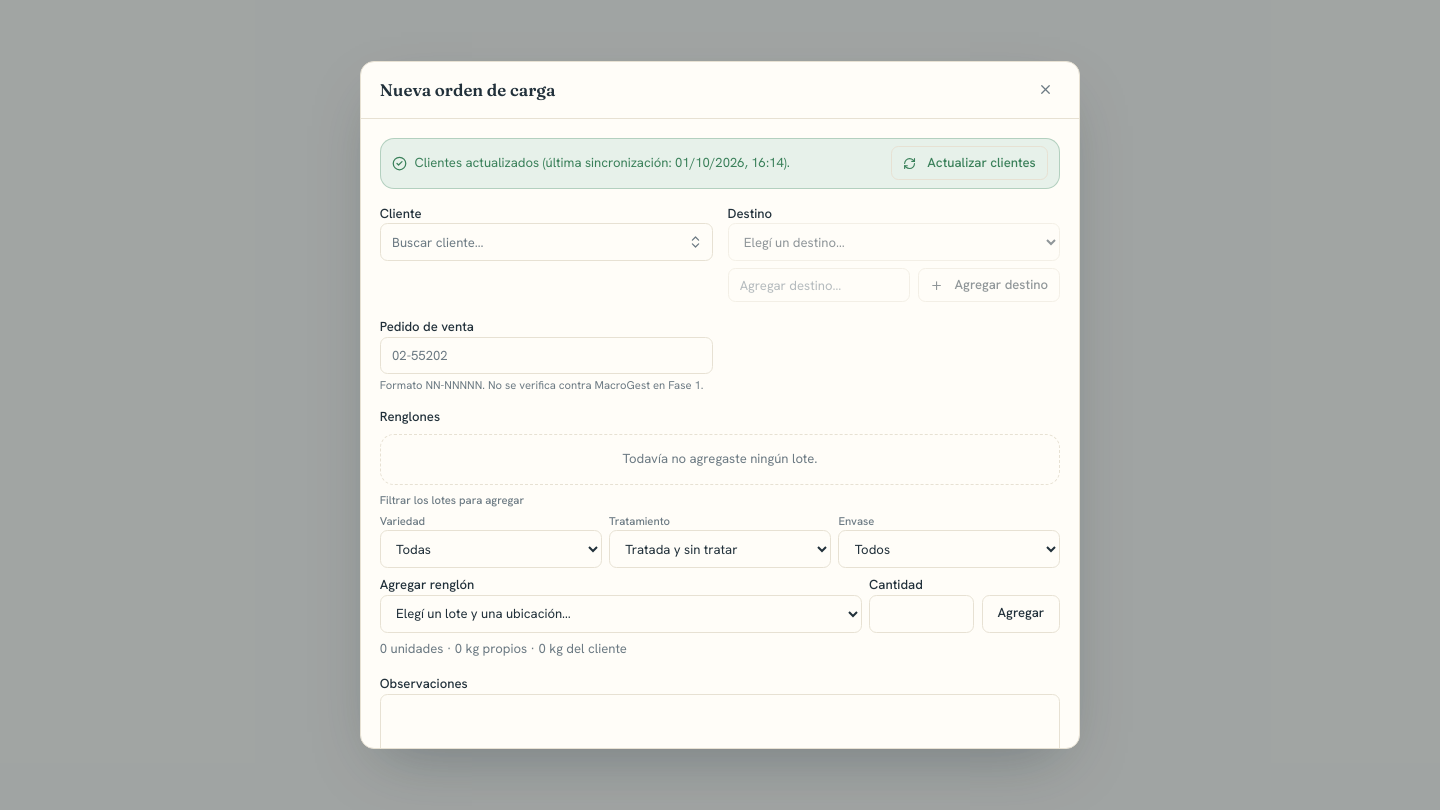
Test: OrdenDialog › no deja guardar sin al menos un renglón
Type "Uno" into the dropdown labelled "Cliente" at (546, 242), box [380,223,713,261]
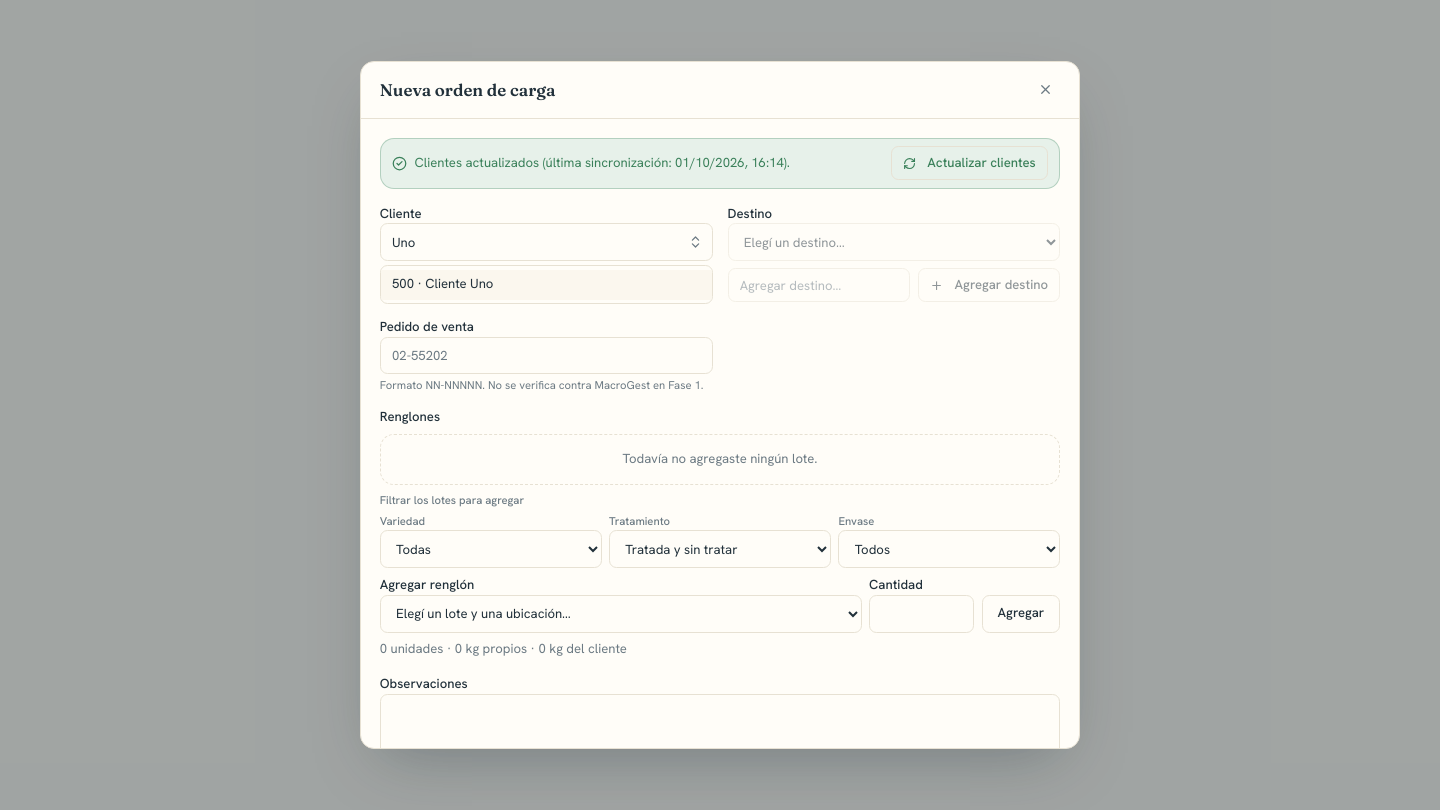
Press the mouse on the button "500 · Cliente Uno" at (443, 284), box [381,270,712,300]
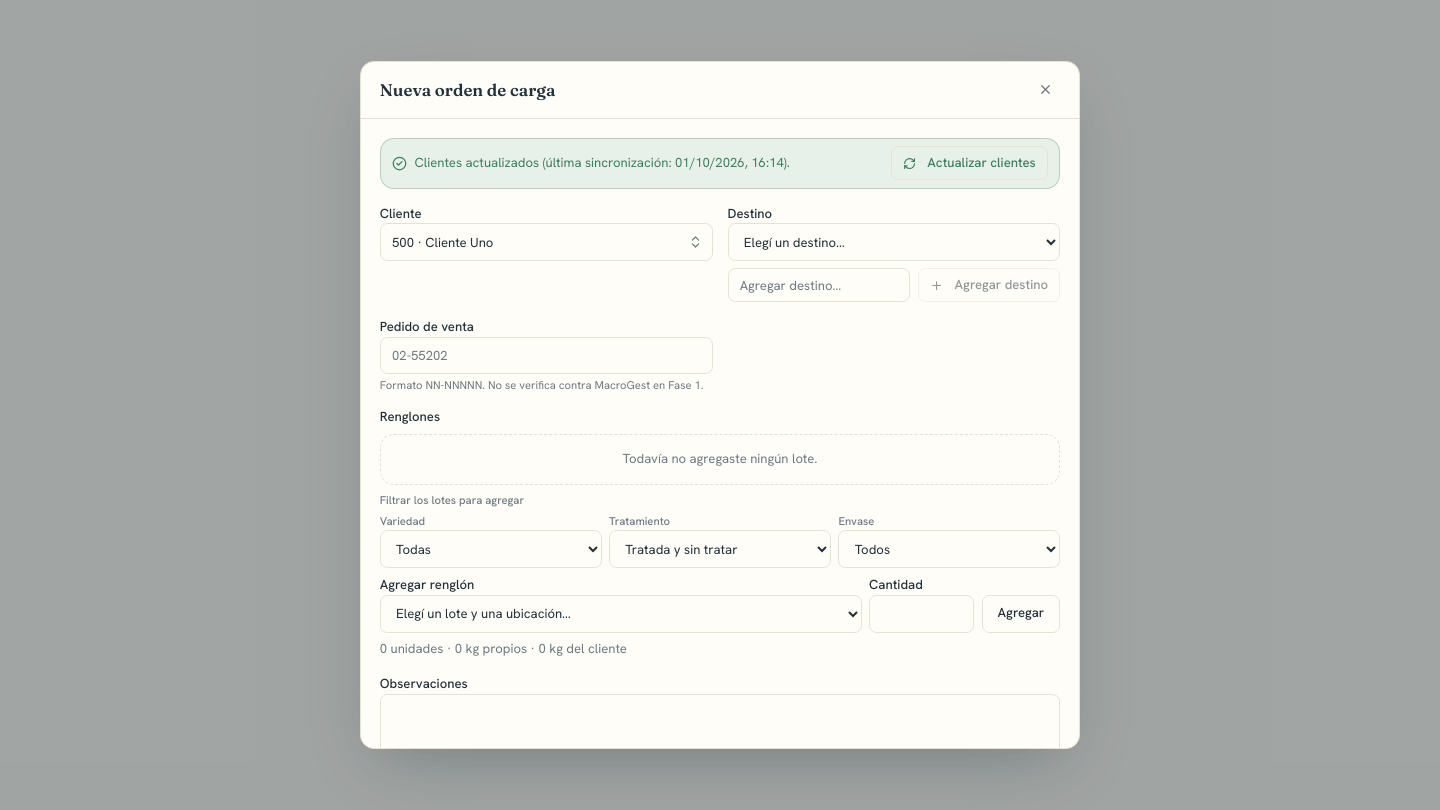
Select "Campo Norte" in the dropdown labelled "Destino" at (894, 242), box [728,223,1060,261]
(page scrolled)
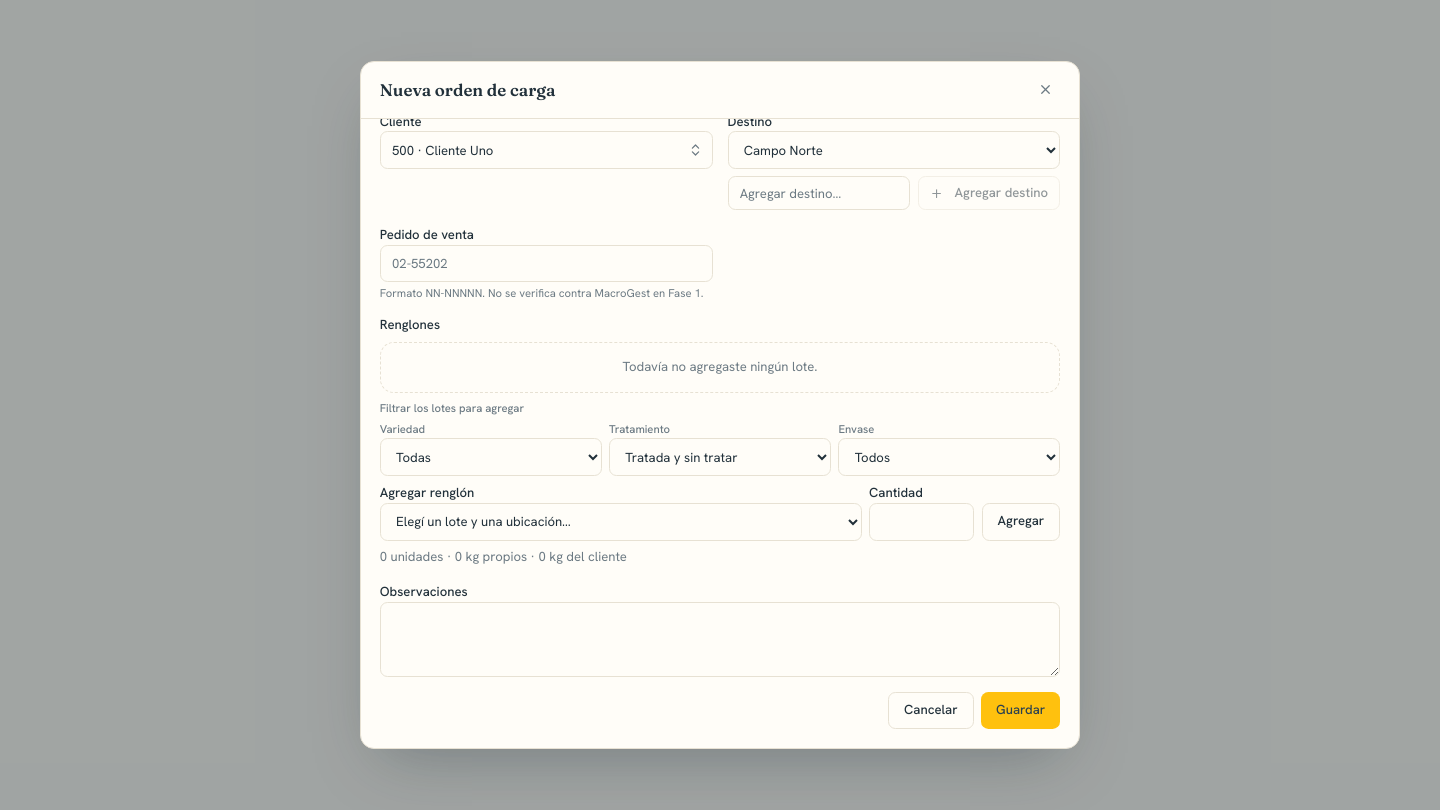
Click the button "Guardar" at (1021, 710), box [981,692,1060,729]
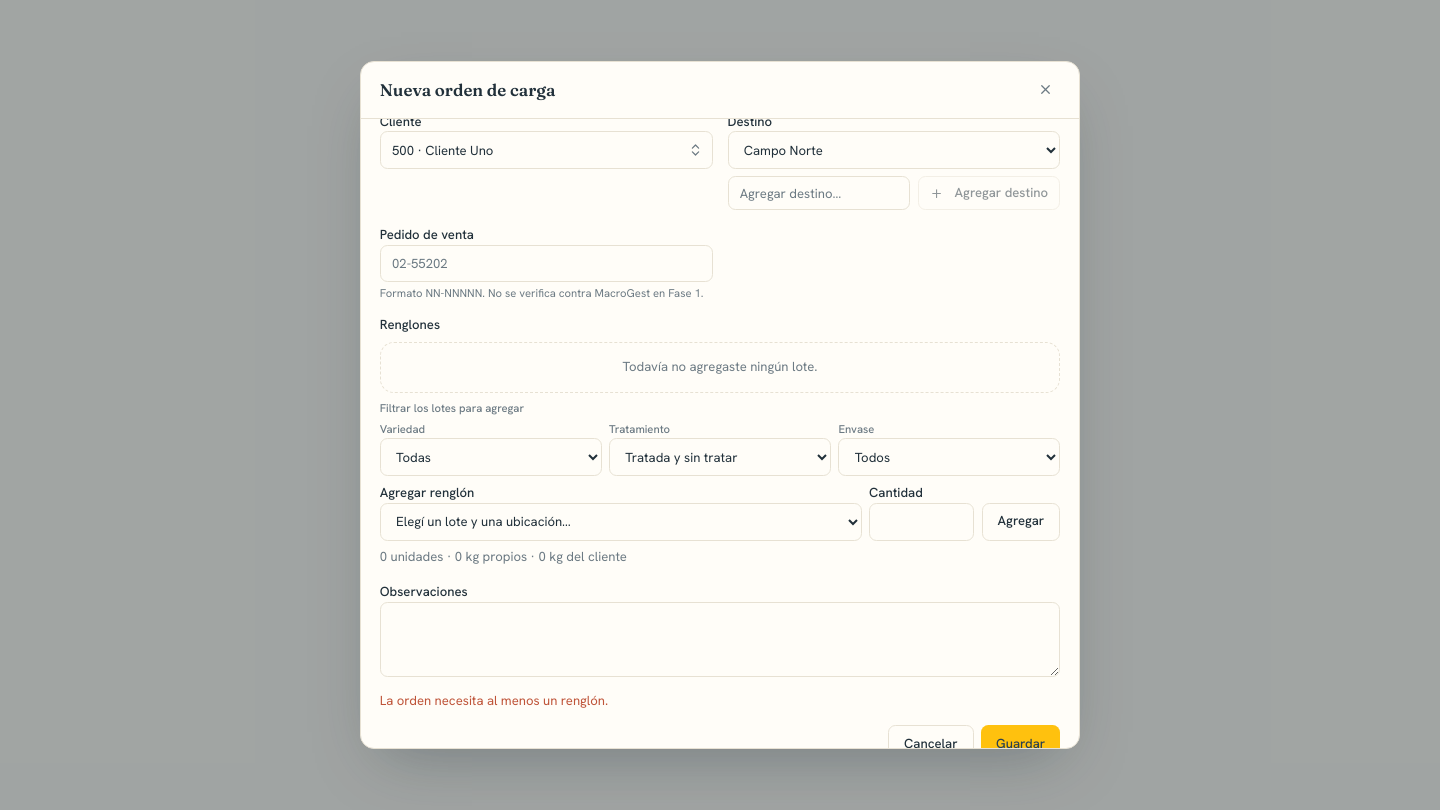
Expected: the message reads "La orden necesita al menos un renglón.", [380,692,608,708]
